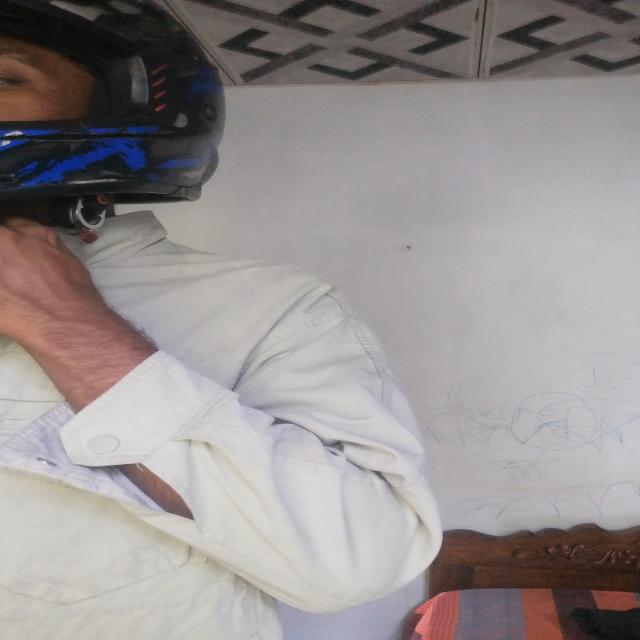Helmet_Wearer: (1, 0, 215, 247)
Jacket_Wearer: (3, 211, 450, 640)
Person: (0, 0, 443, 633)
